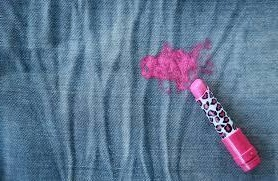lipstick: (141, 47, 217, 91), (182, 38, 214, 62)
